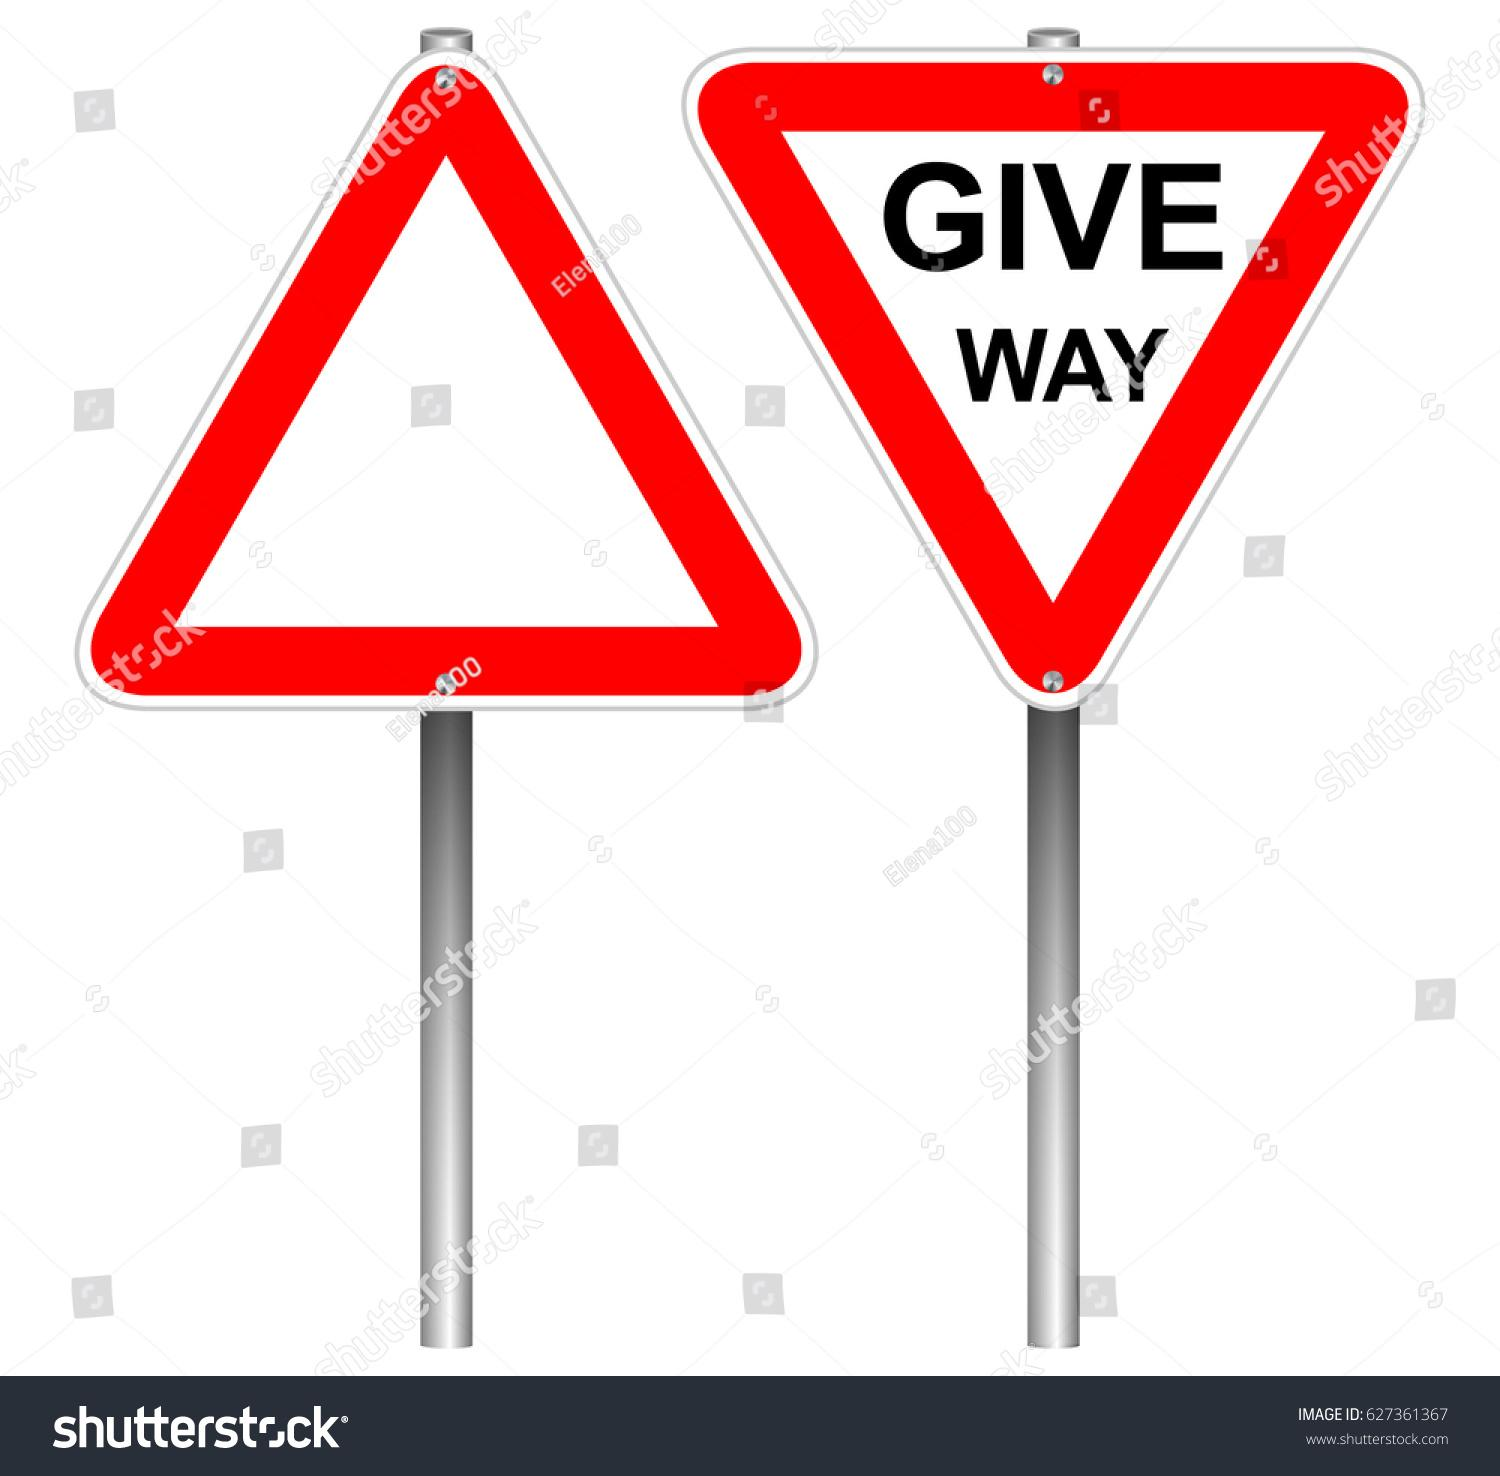Give Way: (114, 24, 1436, 742)
